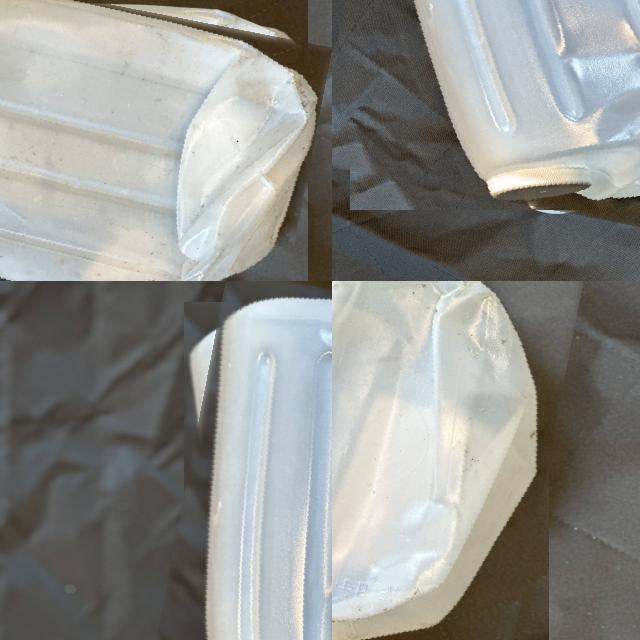milk-jug: (0, 0, 320, 281), (332, 281, 568, 640), (332, 0, 640, 228), (165, 284, 332, 640)
